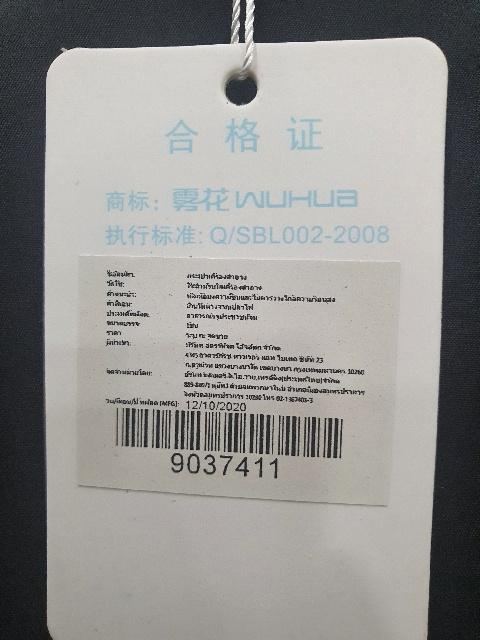Barcode: (104, 400, 361, 482)
